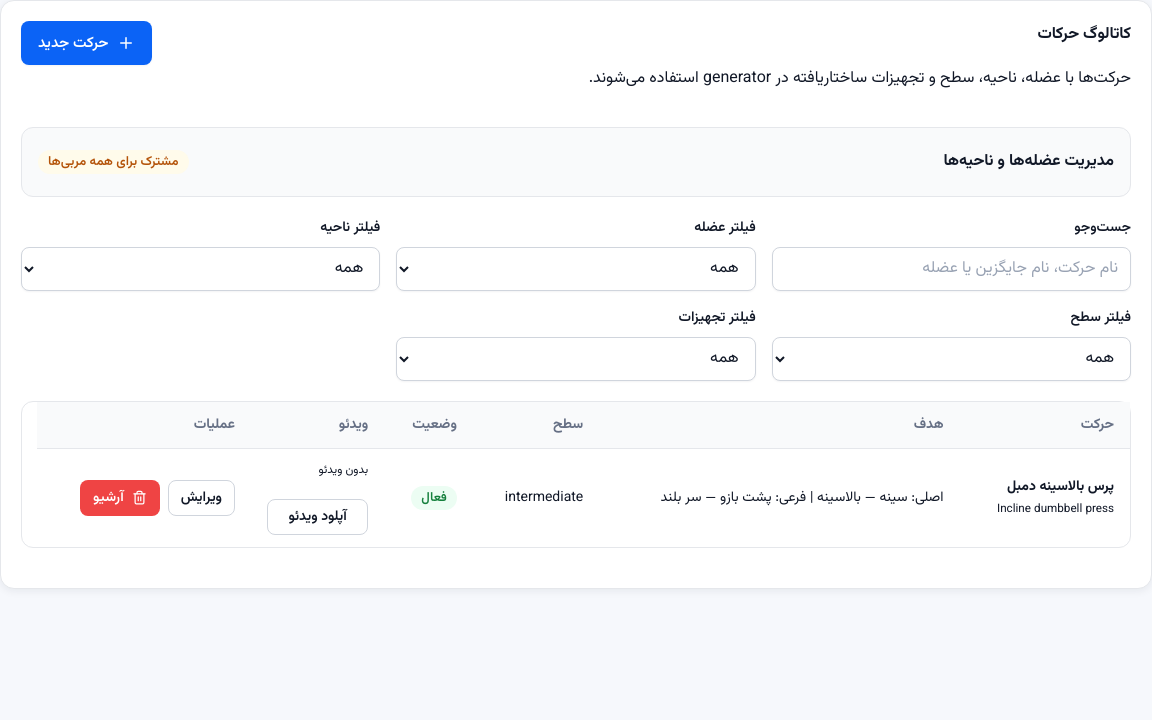
Test: StructuredCatalogSection › shows a clear success message after saving a movement
Expected: the text "پرس بالاسینه دمبل" is shown, [1007, 476, 1114, 498]
What coordinates should you click on to do the following:
click the button "ویرایش"
I would click on:
 (201, 498)
Its box is [168, 480, 235, 516].
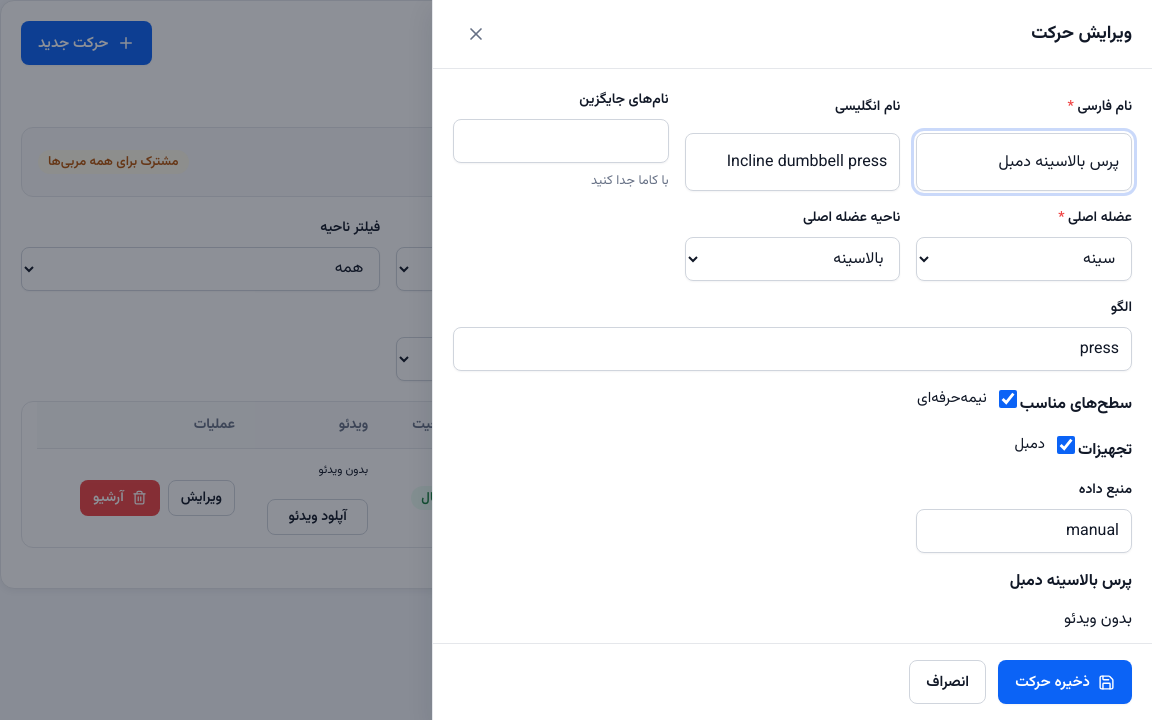
What coordinates should you click on to do the following:
click the button "ذخیره حرکت"
I would click on:
 (1065, 682)
Its box is [998, 660, 1132, 704].
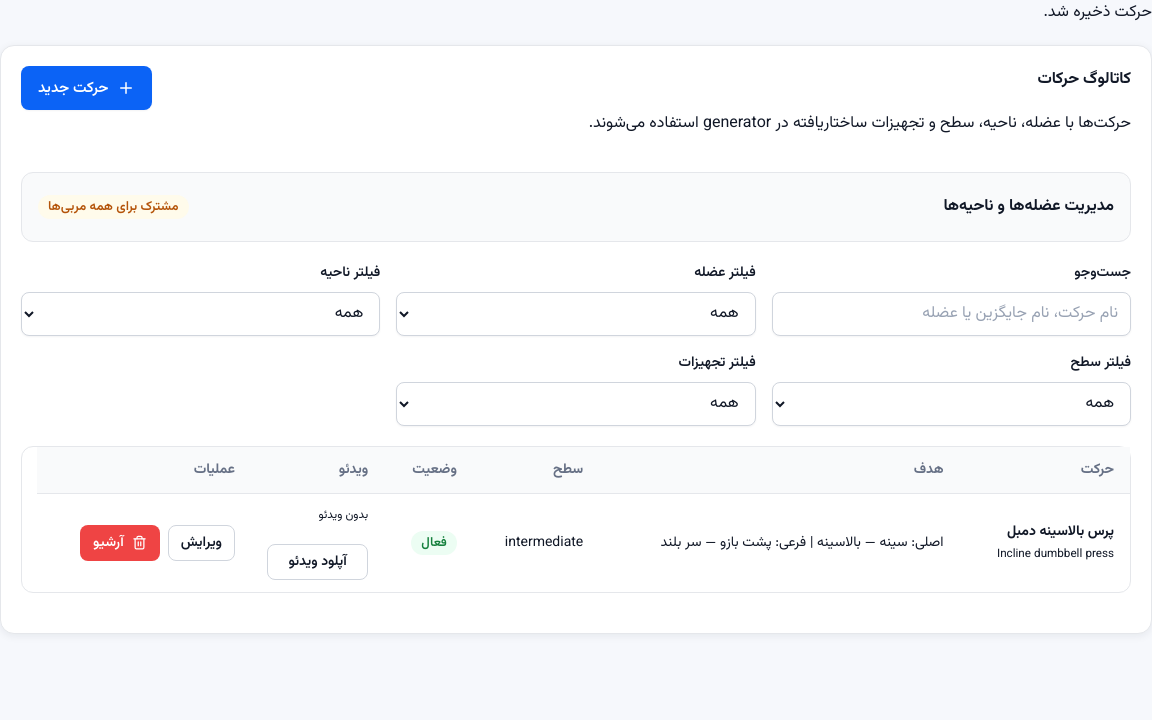
Expected: the message reads "حرکت ذخیره شد.", [1043, 0, 1151, 25]
